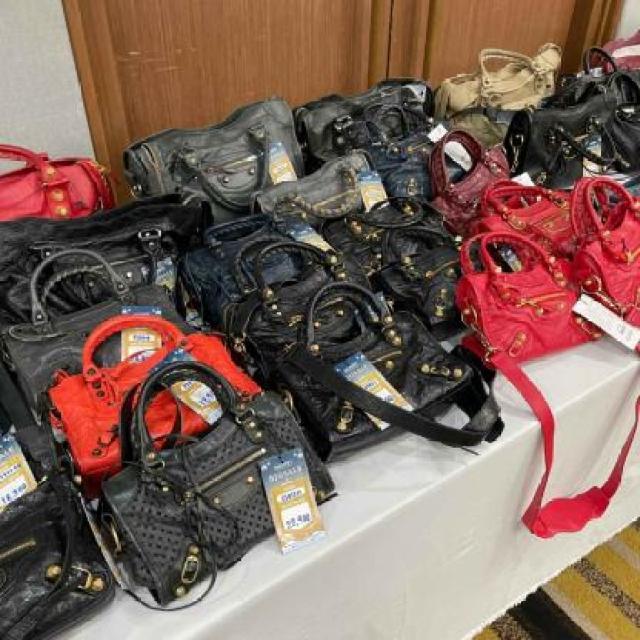Bag: (99, 350, 372, 588), (246, 252, 509, 473), (39, 313, 284, 450), (450, 231, 618, 389)
